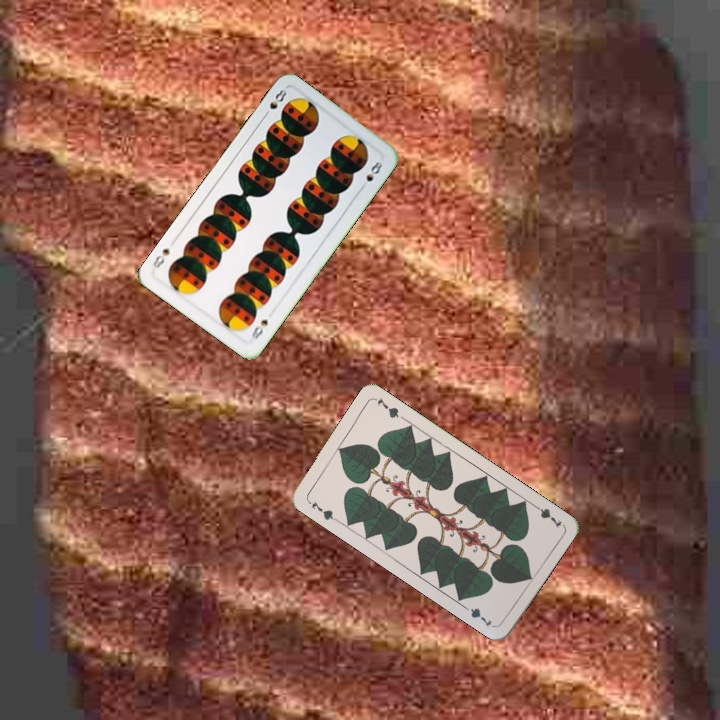G7: (528, 500, 564, 531), (304, 496, 340, 524)
S8: (259, 85, 289, 120), (247, 315, 271, 345)
